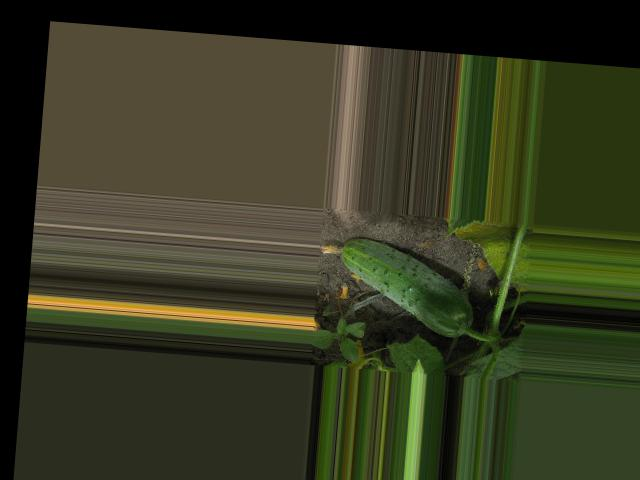cucumber: (314, 234, 478, 338)
